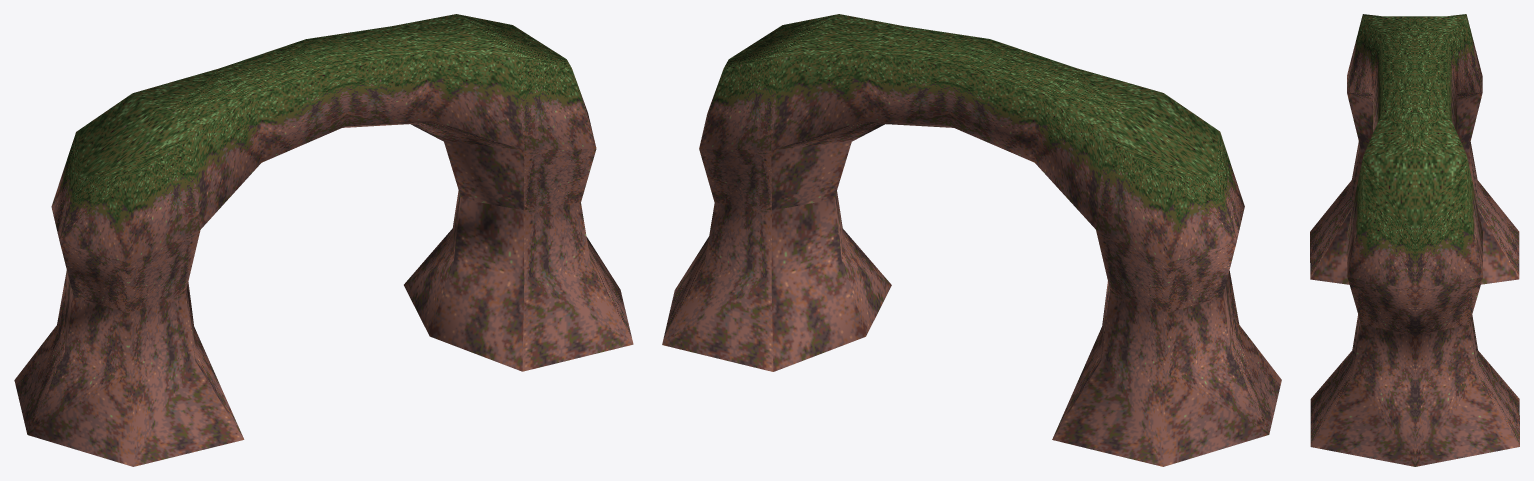
Rendered from cliff2.fbx.
The picture shows the model from 3 angles, left to right: view 1: azimuth 30°, elevation 25°; view 2: azimuth 150°, elevation 25°; view 3: azimuth 270°, elevation 25°; orthographic projection. The views are drawn at different scales.
Parts seen in each view (by area): view 1: cliff2; view 2: cliff2; view 3: cliff2.
Boxes of the visible parts, x1,y1,x2,y2 form: cliff2: (14,14,633,466); cliff2: (662,14,1281,466); cliff2: (1310,14,1519,466).
Size of the model in its own units: 1215 by 606 by 422.
1 material, 1 textured.
